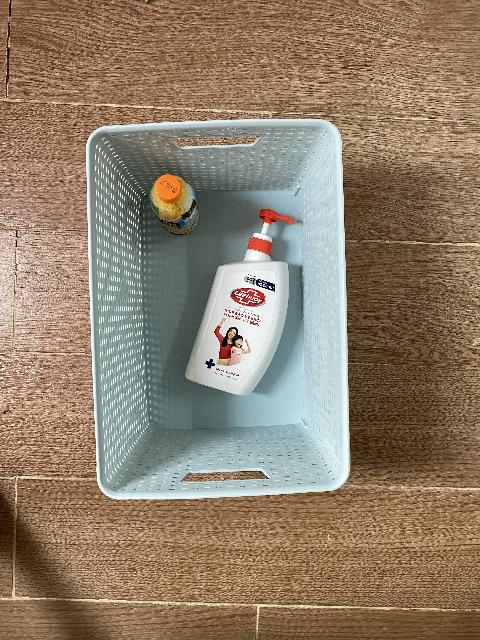cart: (84, 119, 351, 504)
life-buoy: (184, 209, 295, 397)
teppy_orange_juice: (149, 174, 200, 235)
